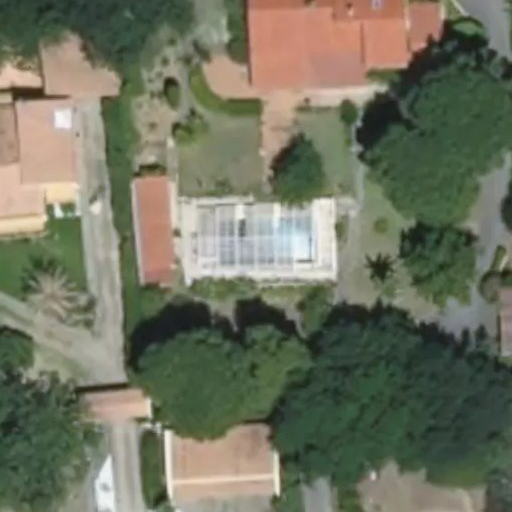pool: (188, 206, 324, 275)
